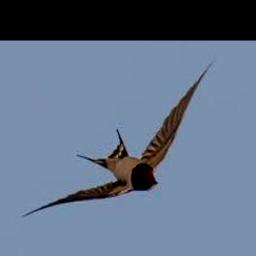Swallow: (21, 58, 216, 217)
